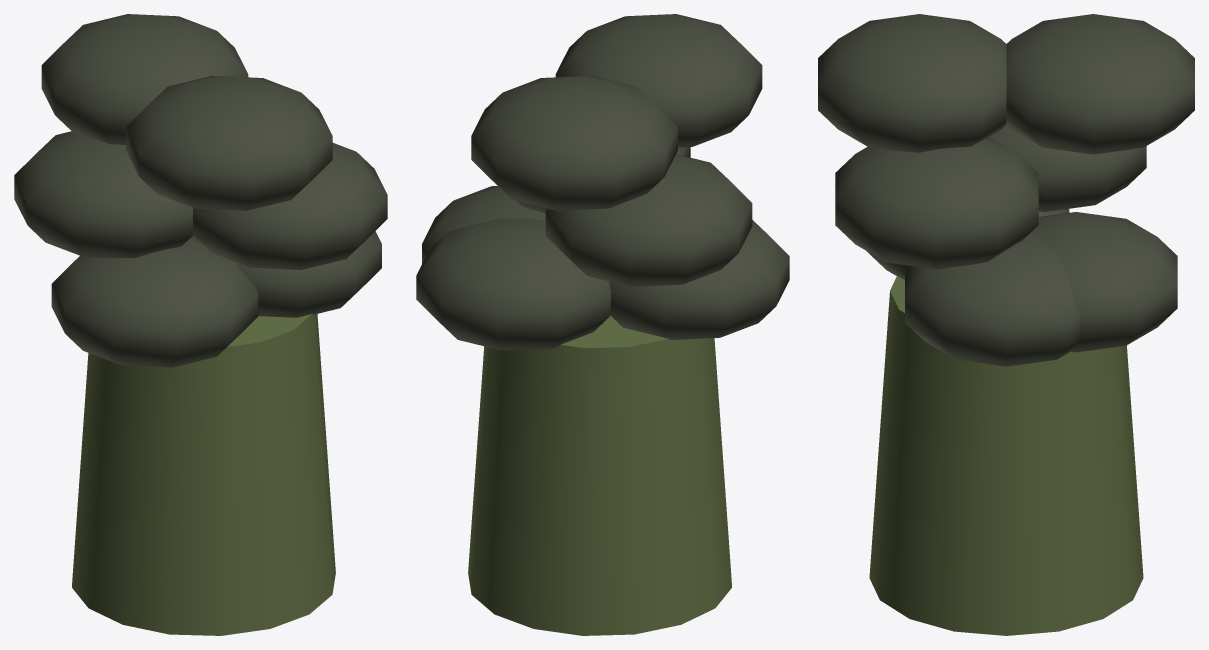
File: plant.glb
The picture shows the model from 3 angles, left to right: view 1: azimuth 30°, elevation 25°; view 2: azimuth 150°, elevation 25°; view 3: azimuth 270°, elevation 25°; orthographic projection. The views are drawn at different scales.
Visible parts, largest first — view 1: REF-L05-R01-plant-part-1, REF-L05-R01-plant-part-4, REF-L05-R01-plant-part-5, REF-L05-R01-plant-part-7, REF-L05-R01-plant-part-6, REF-L05-R01-plant-part-3, REF-L05-R01-plant-part-2; view 2: REF-L05-R01-plant-part-1, REF-L05-R01-plant-part-7, REF-L05-R01-plant-part-8, REF-L05-R01-plant-part-6, REF-L05-R01-plant-part-4, REF-L05-R01-plant-part-5, REF-L05-R01-plant-part-2; view 3: REF-L05-R01-plant-part-1, REF-L05-R01-plant-part-7, REF-L05-R01-plant-part-4, REF-L05-R01-plant-part-3, REF-L05-R01-plant-part-2, REF-L05-R01-plant-part-8, REF-L05-R01-plant-part-6.
Boxes of the visible parts, x1,y1,x2,y2 form: REF-L05-R01-plant-part-1: (72,314,335,635); REF-L05-R01-plant-part-4: (126,75,332,210); REF-L05-R01-plant-part-5: (51,236,258,367); REF-L05-R01-plant-part-7: (41,14,248,144); REF-L05-R01-plant-part-6: (14,131,193,258); REF-L05-R01-plant-part-3: (193,143,387,269); REF-L05-R01-plant-part-2: (239,231,381,317); REF-L05-R01-plant-part-1: (468,315,731,635); REF-L05-R01-plant-part-7: (471,75,677,210); REF-L05-R01-plant-part-8: (416,218,610,350); REF-L05-R01-plant-part-6: (545,154,752,286); REF-L05-R01-plant-part-4: (555,14,762,147); REF-L05-R01-plant-part-5: (609,220,789,339); REF-L05-R01-plant-part-2: (422,186,545,263); REF-L05-R01-plant-part-1: (869,276,1143,635); REF-L05-R01-plant-part-7: (1006,14,1194,154); REF-L05-R01-plant-part-4: (818,14,1006,152); REF-L05-R01-plant-part-3: (835,137,1038,269); REF-L05-R01-plant-part-2: (905,231,1079,366); REF-L05-R01-plant-part-8: (1033,212,1177,352); REF-L05-R01-plant-part-6: (989,124,1146,211).
Size of the model in its own units: 0.0978 by 0.1522 by 0.0963.
